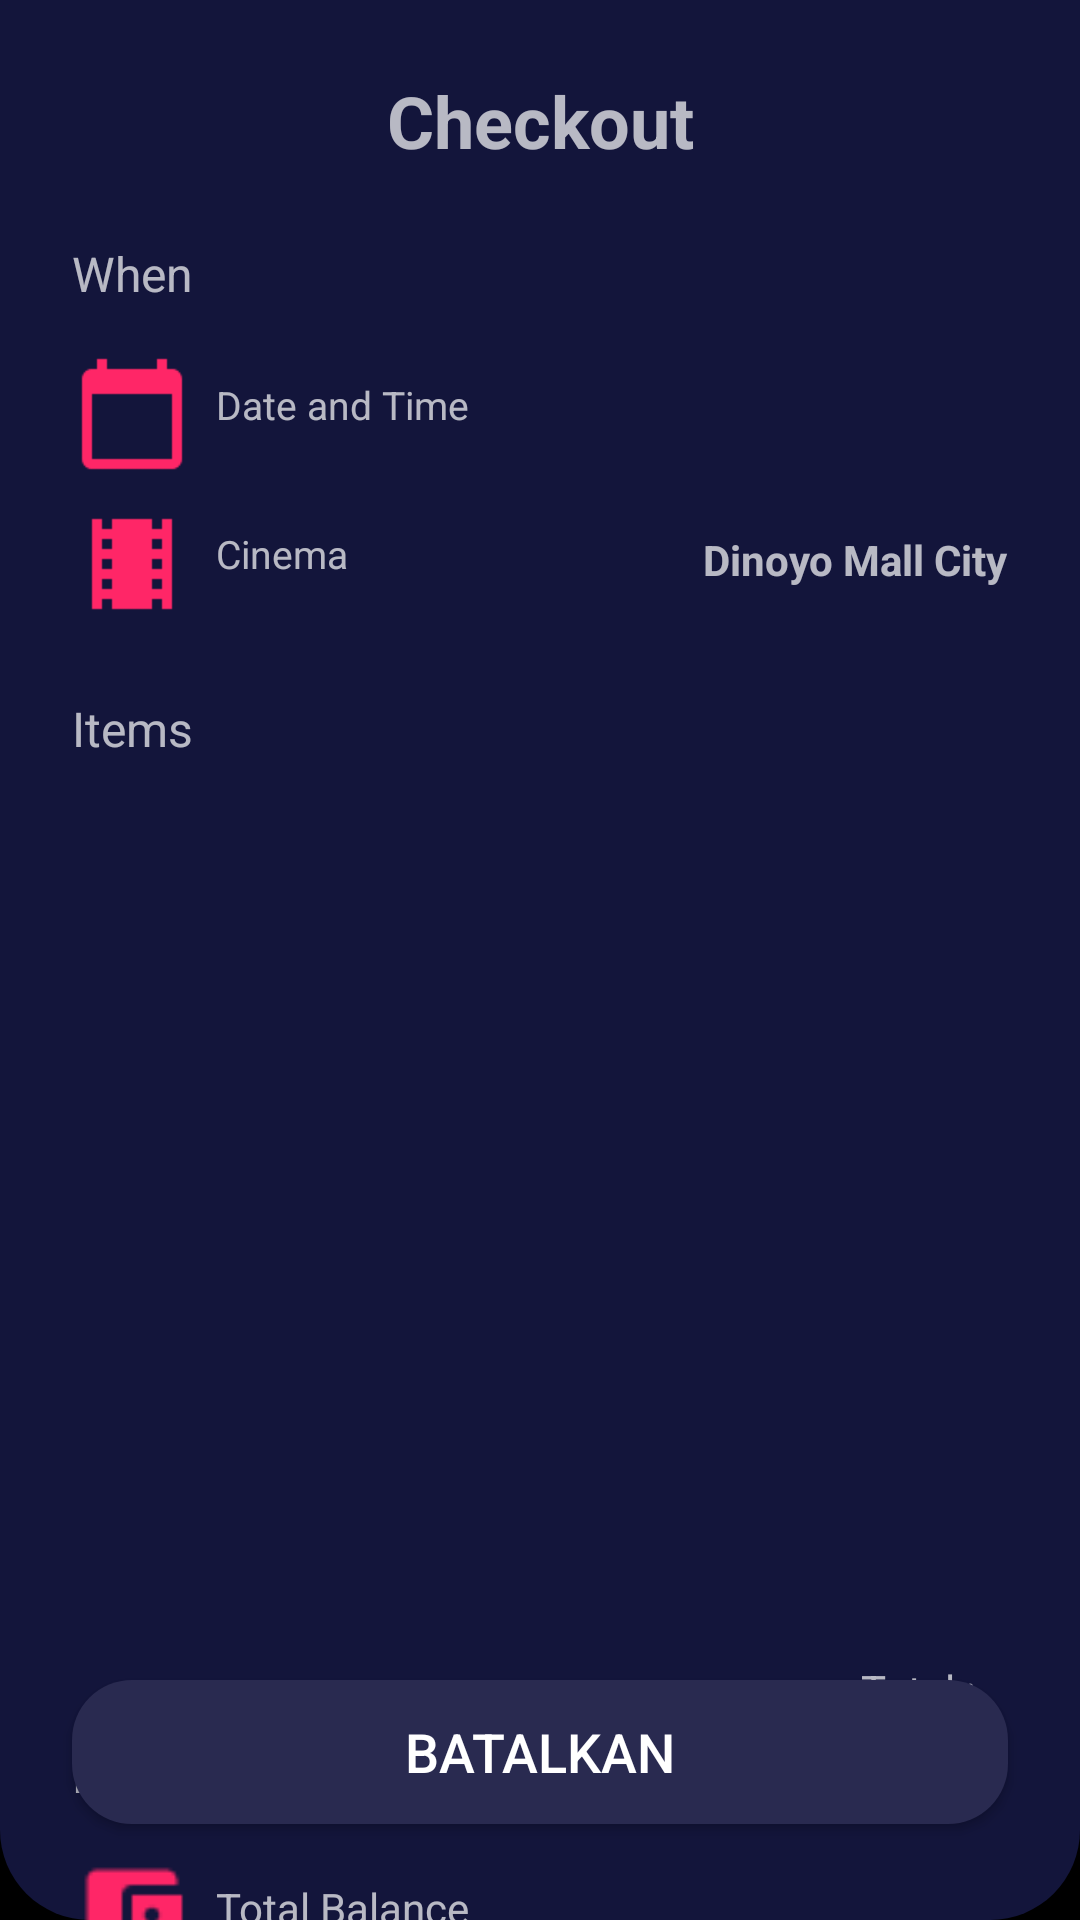

Icon click points for this 1080x1920 phone screenshot, format point (x, y):
calendar: point (132, 414)
movie: point (132, 564)
